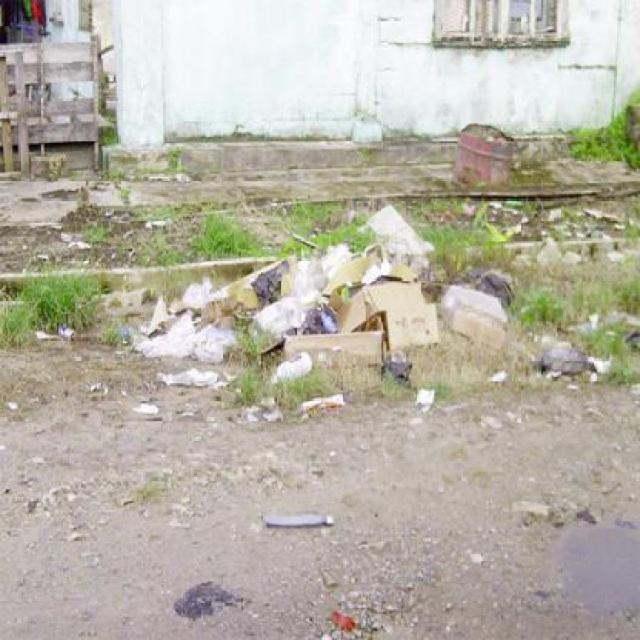garbage: (228, 212, 508, 396)
